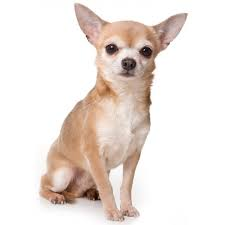chihuahua: (34, 2, 194, 220)
